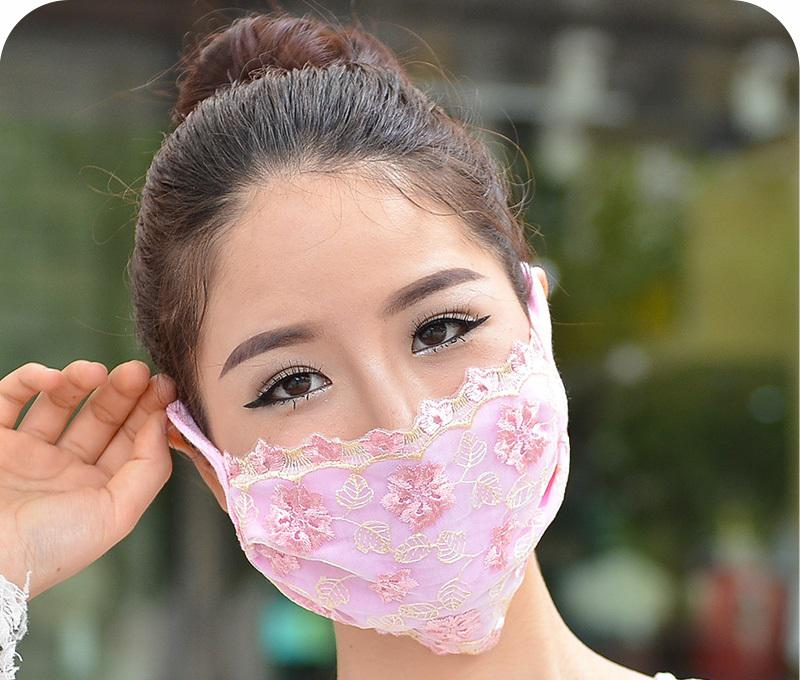WRONG: (194, 259, 555, 620)
